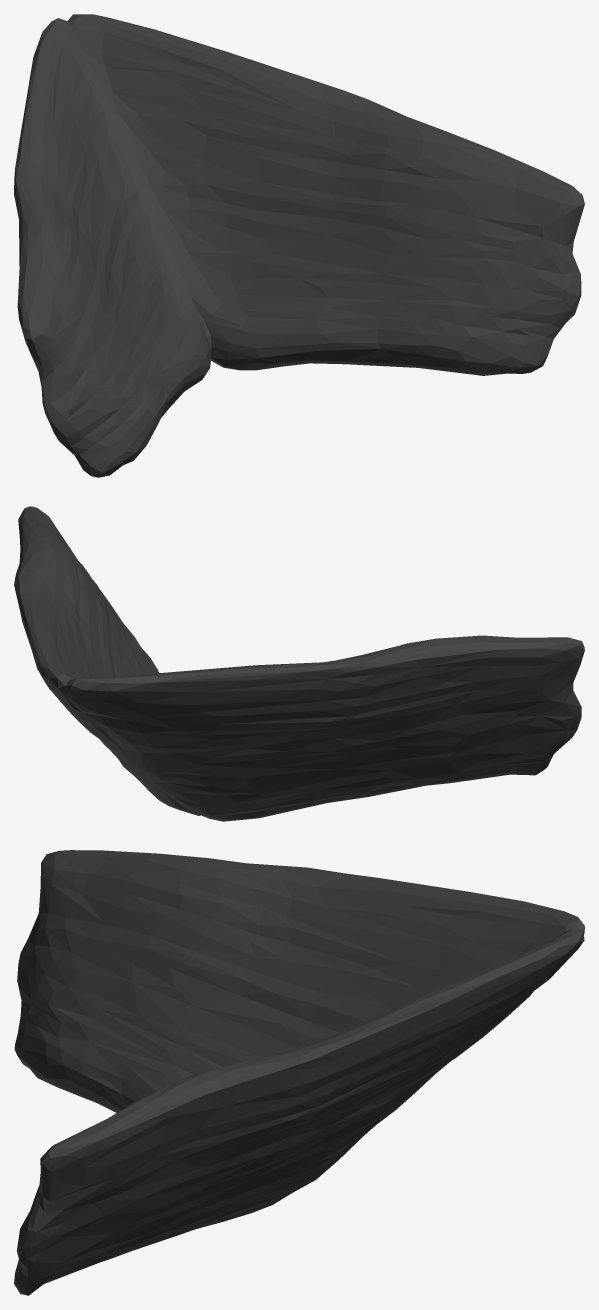
File: m_obliquus_capitis_caudalis.glb
3 renders of one model, top to bottom at view 1: azimuth 30°, elevation 25°; view 2: azimuth 150°, elevation 25°; view 3: azimuth 270°, elevation 25°, orthographic. The views are drawn at different scales.
Parts seen in each view (by area): view 1: m_obliquus_capitis_caudalis; view 2: m_obliquus_capitis_caudalis; view 3: m_obliquus_capitis_caudalis.
Part boxes in pixels (x1=…): m_obliquus_capitis_caudalis: x1=14, y1=14, x2=584, y2=477; m_obliquus_capitis_caudalis: x1=14, y1=506, x2=584, y2=821; m_obliquus_capitis_caudalis: x1=14, y1=850, x2=584, y2=1295.
Bounding box in the file's own units: 0.00223 × 0.000949 × 0.00177.
1 material, 1 textured.
